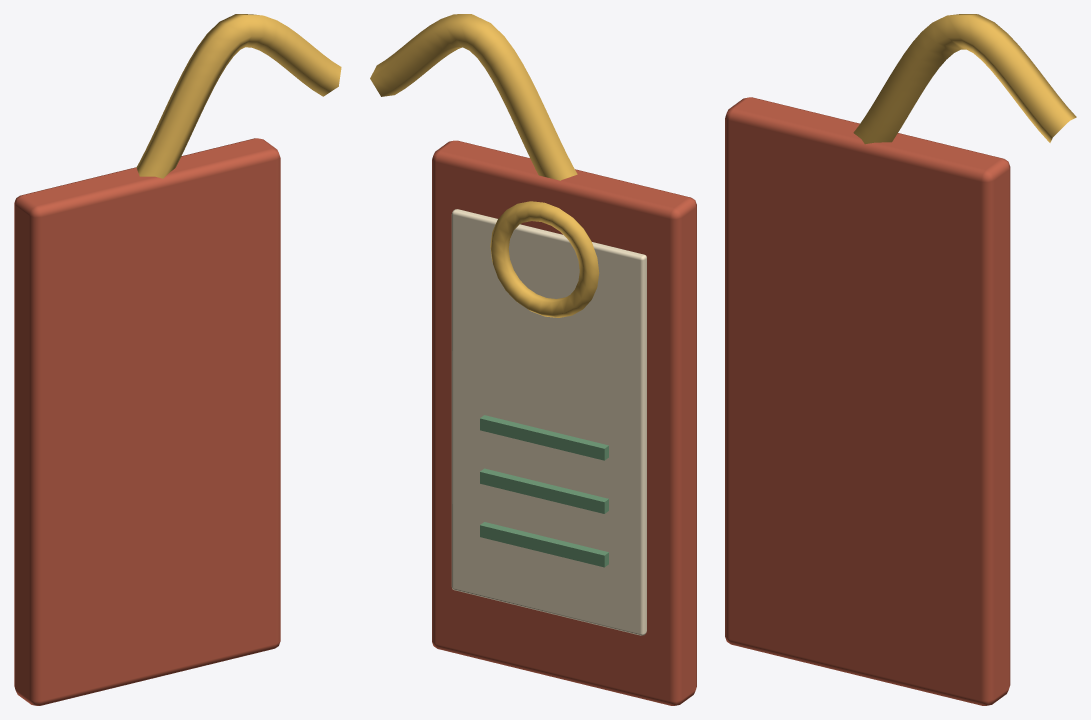
File: treasure-journal.glb
The picture shows the model from 3 angles, left to right: view 1: azimuth 30°, elevation 25°; view 2: azimuth 150°, elevation 25°; view 3: azimuth 330°, elevation 25°; orthographic projection. The views are drawn at different scales.
Visible parts, largest first — view 1: collectible-journal; view 2: collectible-journal; view 3: collectible-journal.
Boxes of the visible parts, left/top/right/bottom form: collectible-journal: left=14, top=14, right=341, bottom=705; collectible-journal: left=370, top=14, right=696, bottom=705; collectible-journal: left=725, top=14, right=1076, bottom=705.
Size of the model in its own units: 0.278 by 0.5335 by 0.0551.
